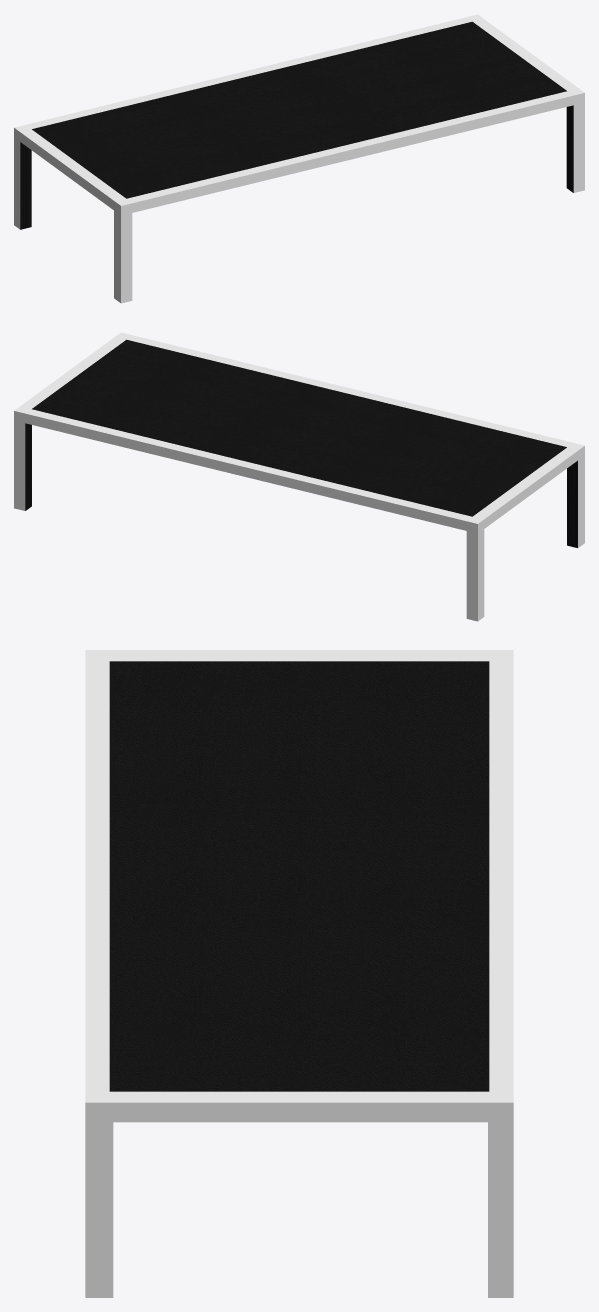
The model's file is Table_01.FBX.
3 renders of one model, top to bottom at view 1: azimuth 30°, elevation 25°; view 2: azimuth 150°, elevation 25°; view 3: azimuth 270°, elevation 25°, orthographic. The views are drawn at different scales.
Parts seen in each view (by area): view 1: Table_01; view 2: Table_01; view 3: Table_01.
Boxes of the visible parts, x1,y1,x2,y2 form: Table_01: (14,14,584,303); Table_01: (14,332,584,621); Table_01: (85,650,513,1297).
Size of the model in its own units: 197 by 39.56 by 78.74.
